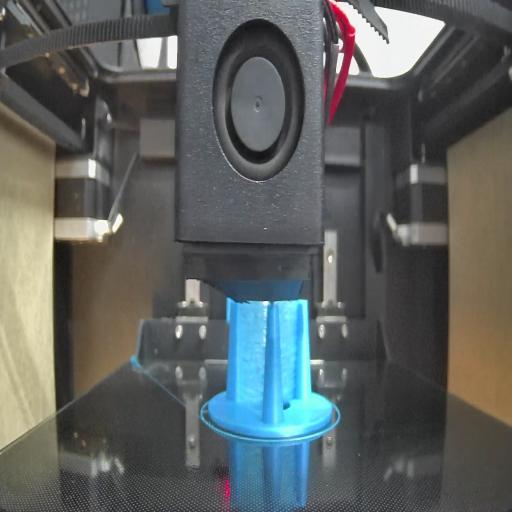stringing: (237, 298, 265, 422), (279, 299, 299, 414)
